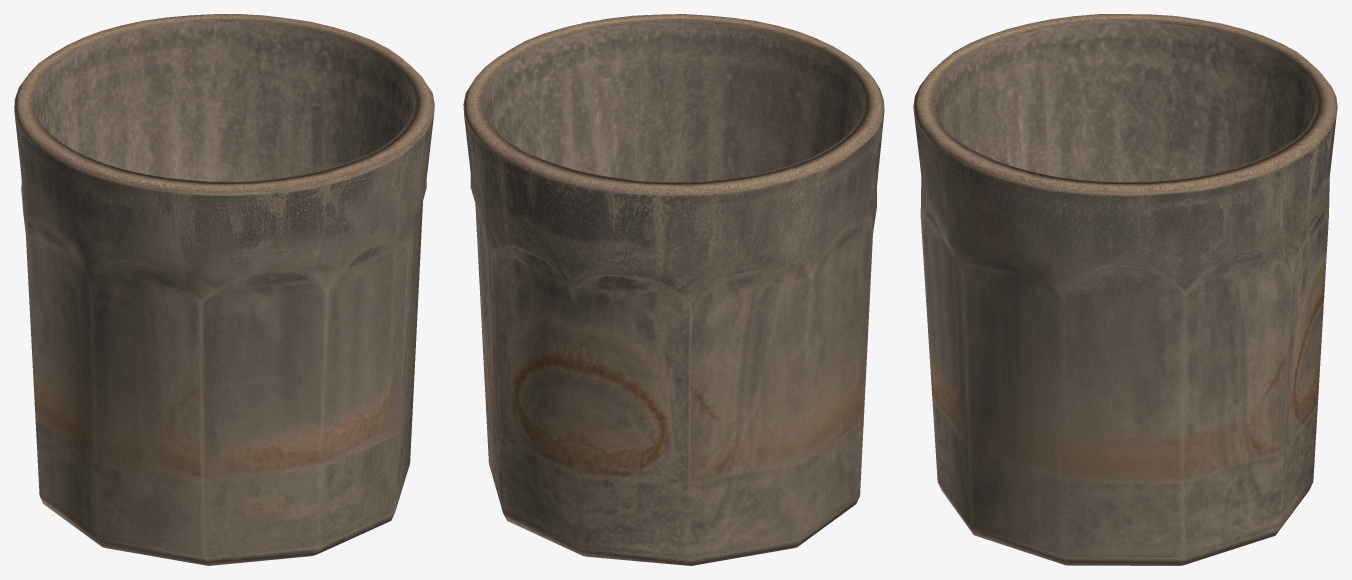
The model's file is Meshy_AI_Forgotten_Glass_20261028_texture.fbx.
3 renders of one model, left to right at view 1: azimuth 30°, elevation 25°; view 2: azimuth 150°, elevation 25°; view 3: azimuth 270°, elevation 25°, orthographic.
Visible parts, largest first — view 1: Mesh_0; view 2: Mesh_0; view 3: Mesh_0.
Part boxes in pixels (left/top/right/bottom): Mesh_0: left=14, top=14, right=434, bottom=565; Mesh_0: left=463, top=14, right=884, bottom=565; Mesh_0: left=913, top=14, right=1337, bottom=565.
Bounding box in the file's own units: 92.14 × 95.07 × 92.82.
1 material, 1 textured.
